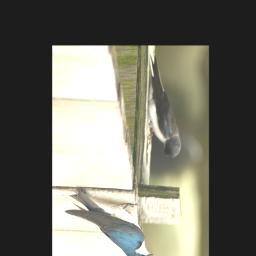Swallow: (65, 191, 153, 256)
